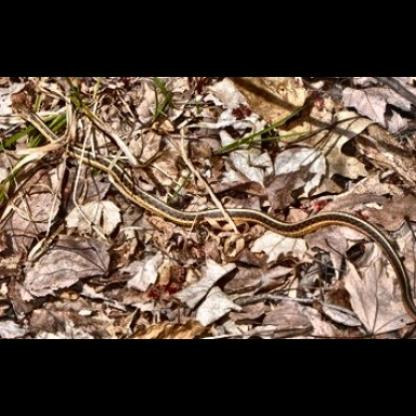Snake: (8, 76, 416, 320)
